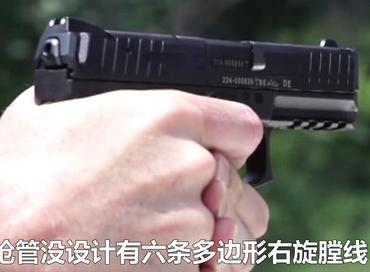gun: (1, 1, 370, 272)
